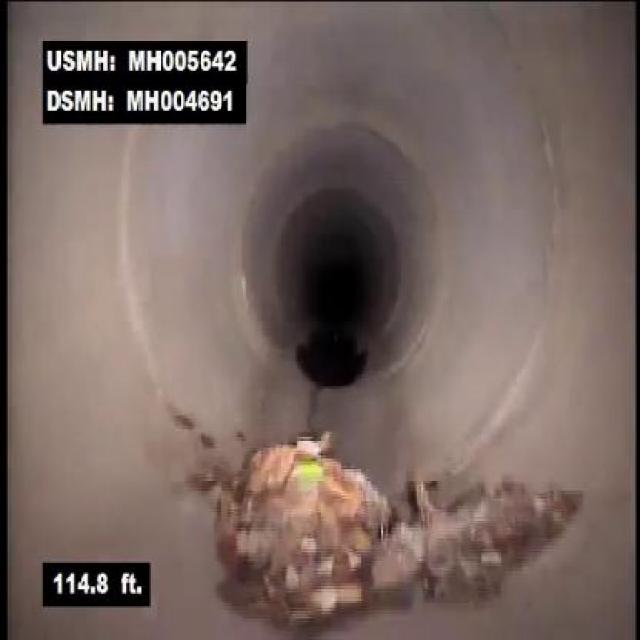Debris: (205, 406, 417, 623)
